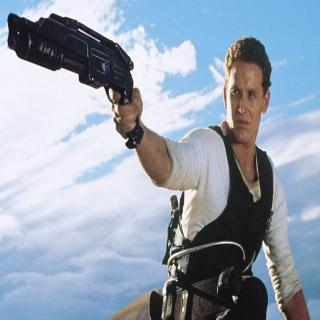gun: (8, 5, 144, 155)
